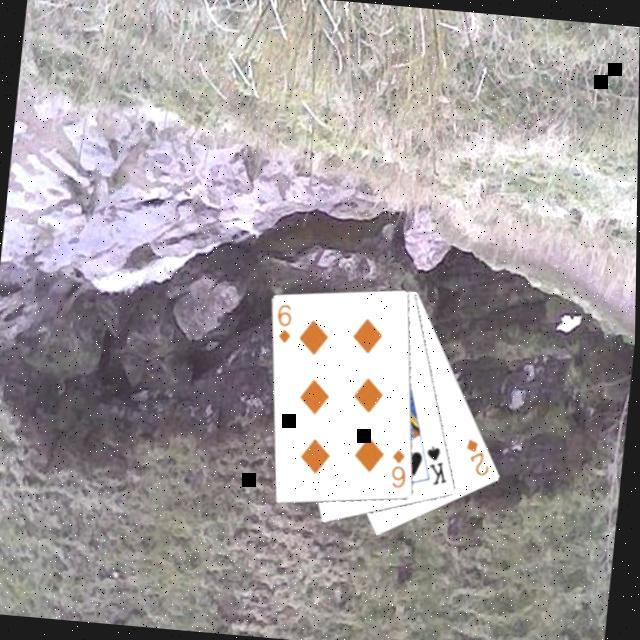2D: (462, 437, 499, 482)
6D: (389, 447, 415, 494), (274, 302, 299, 349)
KS: (422, 444, 457, 491)
